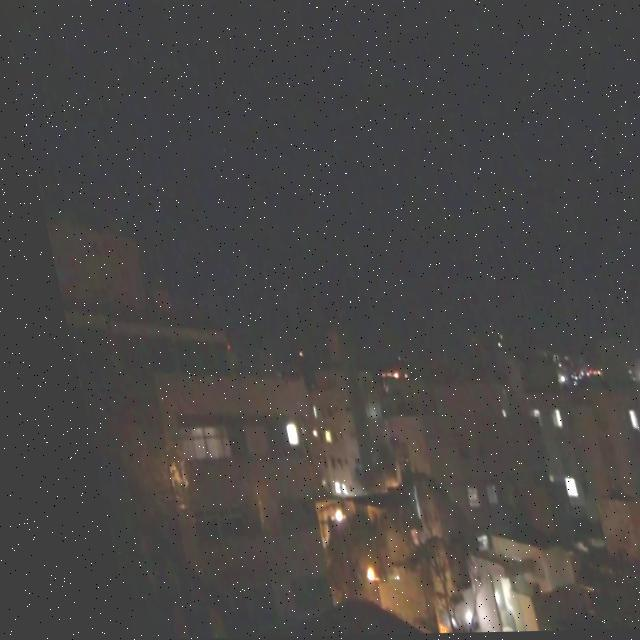Fire: (365, 370, 382, 380)
